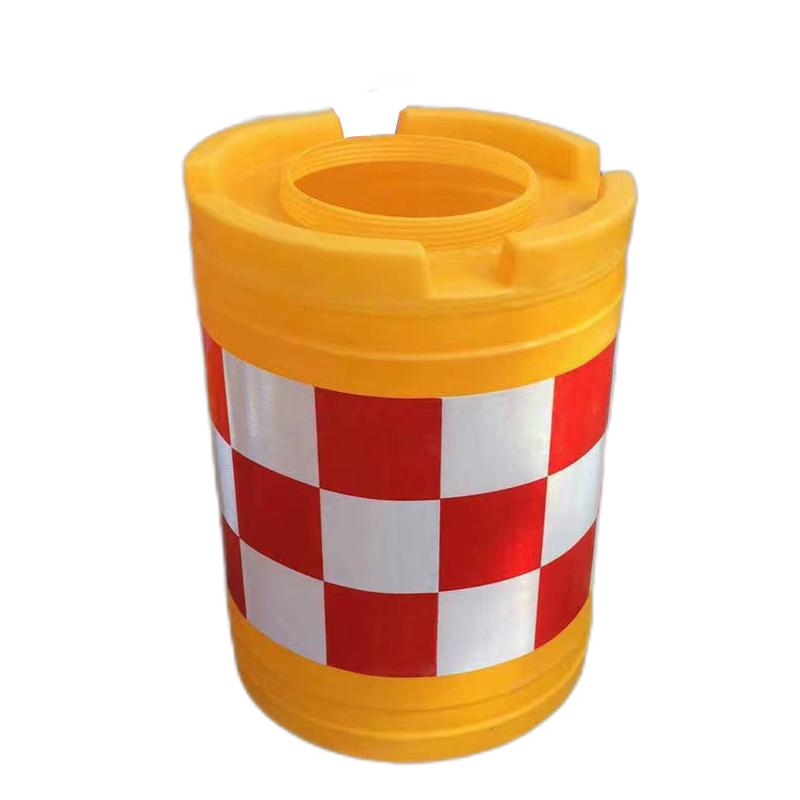sign: (153, 82, 655, 763)
